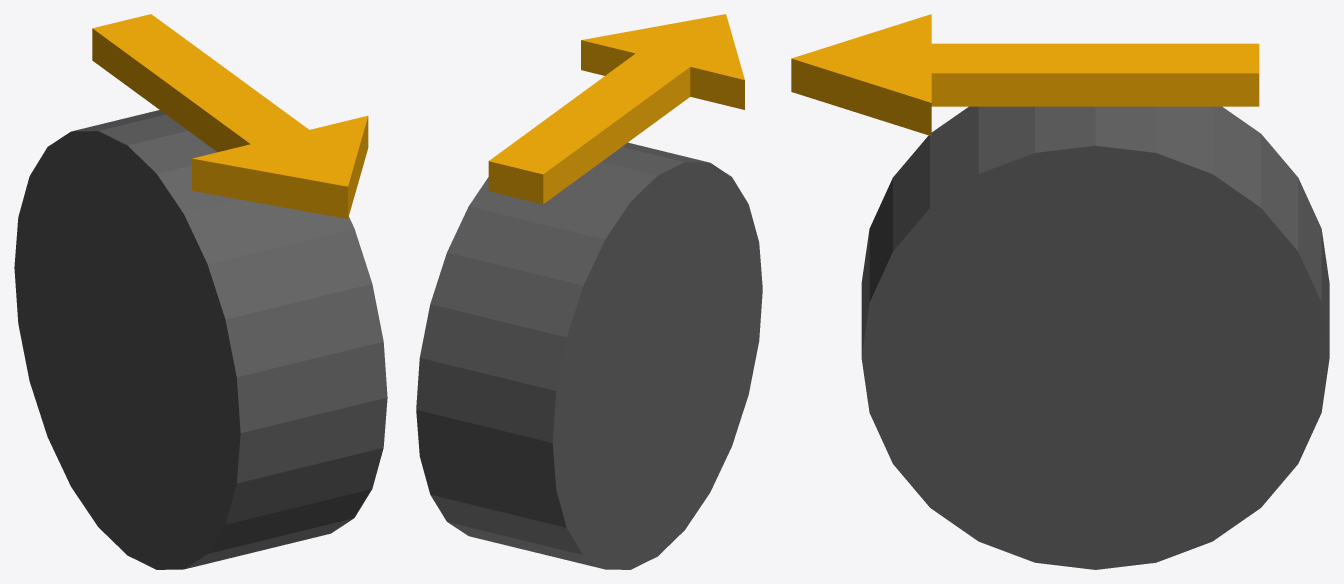
The picture shows the model from 3 angles, left to right: view 1: azimuth 30°, elevation 25°; view 2: azimuth 150°, elevation 25°; view 3: azimuth 270°, elevation 25°; orthographic projection. The views are drawn at different scales.
Parts seen in each view (by area): view 1: wheel front left, wheel arrow front left; view 2: wheel front left, wheel arrow front left; view 3: wheel front left, wheel arrow front left.
Boxes of the visible parts, x1,y1,x2,y2 form: wheel front left: (14,110,387,569); wheel arrow front left: (92,14,368,218); wheel front left: (416,142,762,569); wheel arrow front left: (488,14,744,204); wheel front left: (861,106,1329,569); wheel arrow front left: (791,14,1259,136).
Bounding box in the file's own units: 0.0457 × 0.1136 × 0.1168.
